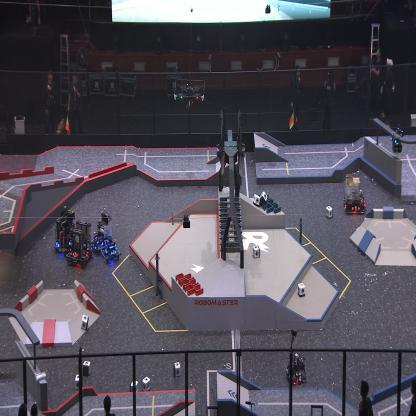car: (66, 219, 94, 267), (53, 208, 78, 254), (90, 208, 113, 255), (342, 173, 367, 214), (285, 352, 307, 384), (100, 234, 122, 262)
